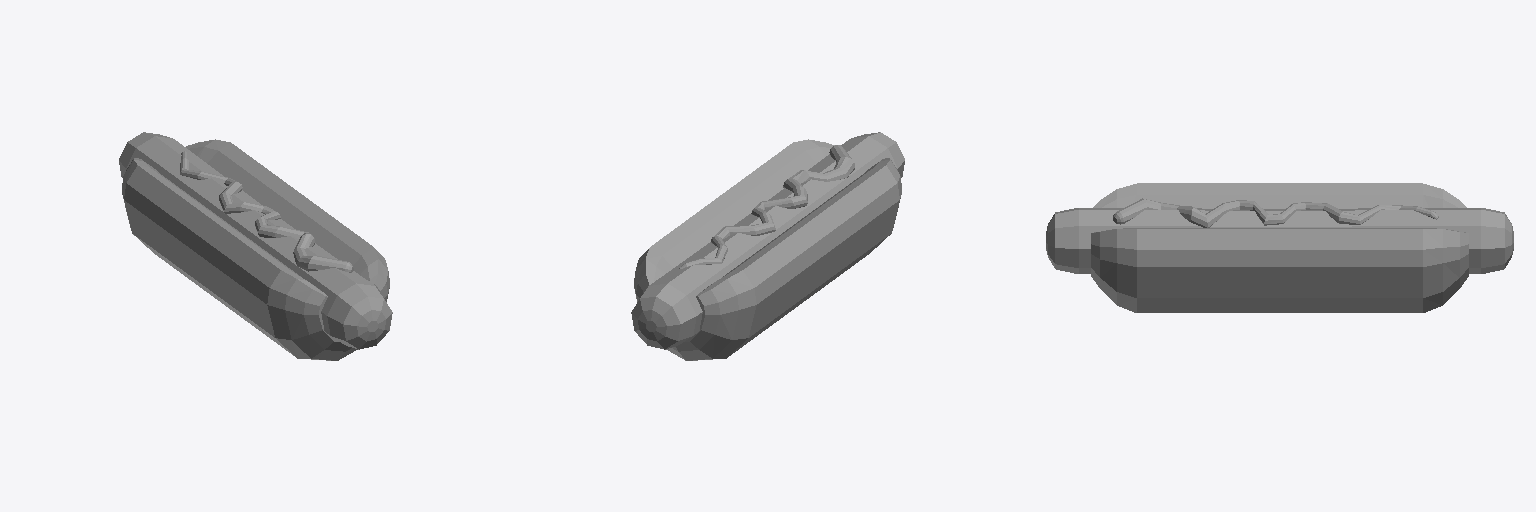
File: Hotdog.obj
3 renders of one model, left to right at view 1: azimuth 30°, elevation 25°; view 2: azimuth 150°, elevation 25°; view 3: azimuth 270°, elevation 25°, orthographic.
Parts seen in each view (by area): view 1: Hotdog_Cylinder.001; view 2: Hotdog_Cylinder.001; view 3: Hotdog_Cylinder.001.
Boxes of the visible parts, x1,y1,x2,y2 form: Hotdog_Cylinder.001: [119, 132, 392, 360]; Hotdog_Cylinder.001: [631, 132, 904, 360]; Hotdog_Cylinder.001: [1046, 183, 1513, 312].
Size of the model in its own units: 0.3972 by 0.3277 by 1.33.